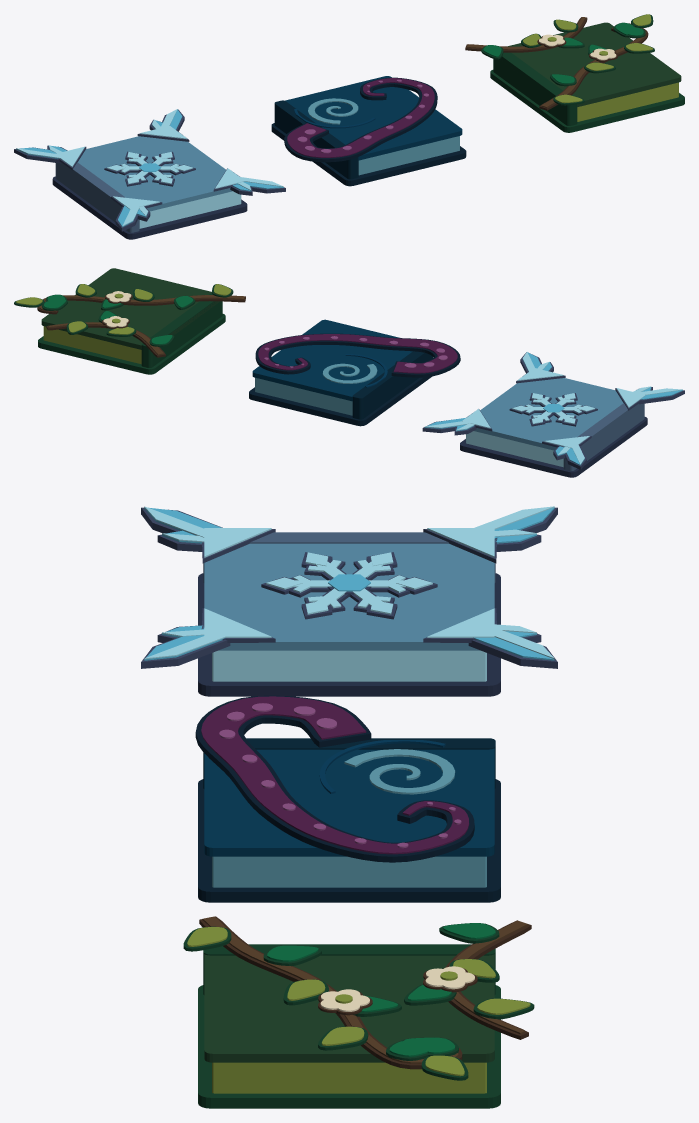
The model's file is skins-livros_animados.fbx.
3 views of the same model, one above another, from view 1: azimuth 30°, elevation 25°; view 2: azimuth 150°, elevation 25°; view 3: azimuth 270°, elevation 25° (orthographic). The views are drawn at different scales.
Parts seen in each view (by area): view 1: book_tentaculo_livro, book_trepadeira_livro, book_gelo_livro, book_gelo, book_trepadeira, book_gelo_anim_floco, book_tentaculo_anim_ponta, book_tentaculo_anim_espiral; view 2: book_tentaculo_livro, book_trepadeira_livro, book_gelo_livro, book_gelo, book_trepadeira, book_gelo_anim_floco, book_tentaculo_anim_ponta, book_tentaculo_anim_espiral; view 3: book_tentaculo_livro, book_trepadeira_livro, book_gelo_livro, book_gelo, book_trepadeira, book_gelo_anim_floco, book_tentaculo_anim_ponta, book_tentaculo_anim_espiral.
Boxes of the visible parts, x1,y1,x2,y2 form: book_tentaculo_livro: [271, 76, 466, 186]; book_trepadeira_livro: [465, 17, 684, 132]; book_gelo_livro: [52, 136, 247, 239]; book_gelo: [14, 109, 285, 231]; book_trepadeira: [481, 14, 654, 105]; book_gelo_anim_floco: [104, 151, 195, 186]; book_tentaculo_anim_ponta: [360, 77, 437, 108]; book_tentaculo_anim_espiral: [294, 98, 375, 128]; book_tentaculo_livro: [249, 319, 460, 426]; book_trepadeira_livro: [37, 268, 245, 374]; book_gelo_livro: [460, 378, 647, 477]; book_gelo: [422, 352, 684, 469]; book_trepadeira: [14, 284, 233, 346]; book_gelo_anim_floco: [509, 393, 597, 426]; book_tentaculo_anim_ponta: [255, 335, 310, 374]; book_tentaculo_anim_espiral: [322, 354, 387, 387]; book_tentaculo_livro: [195, 695, 500, 902]; book_trepadeira_livro: [198, 916, 531, 1108]; book_gelo_livro: [198, 532, 500, 696]; book_gelo: [141, 506, 557, 668]; book_trepadeira: [183, 923, 534, 1080]; book_gelo_anim_floco: [261, 552, 437, 619]; book_tentaculo_anim_ponta: [313, 800, 474, 862]; book_tentaculo_anim_espiral: [319, 740, 455, 794].
Size of the model in its own units: 12.59 by 0.687 by 3.85.
1 material, 1 textured.
